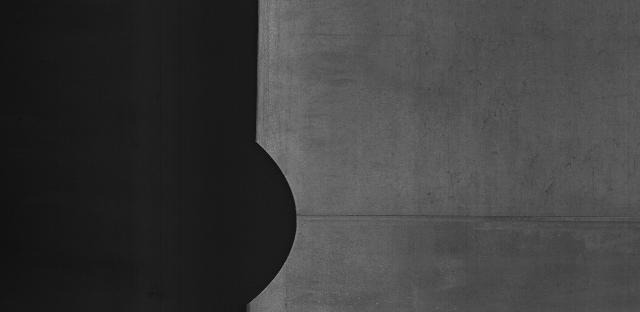welding_line: (281, 202, 640, 230)
